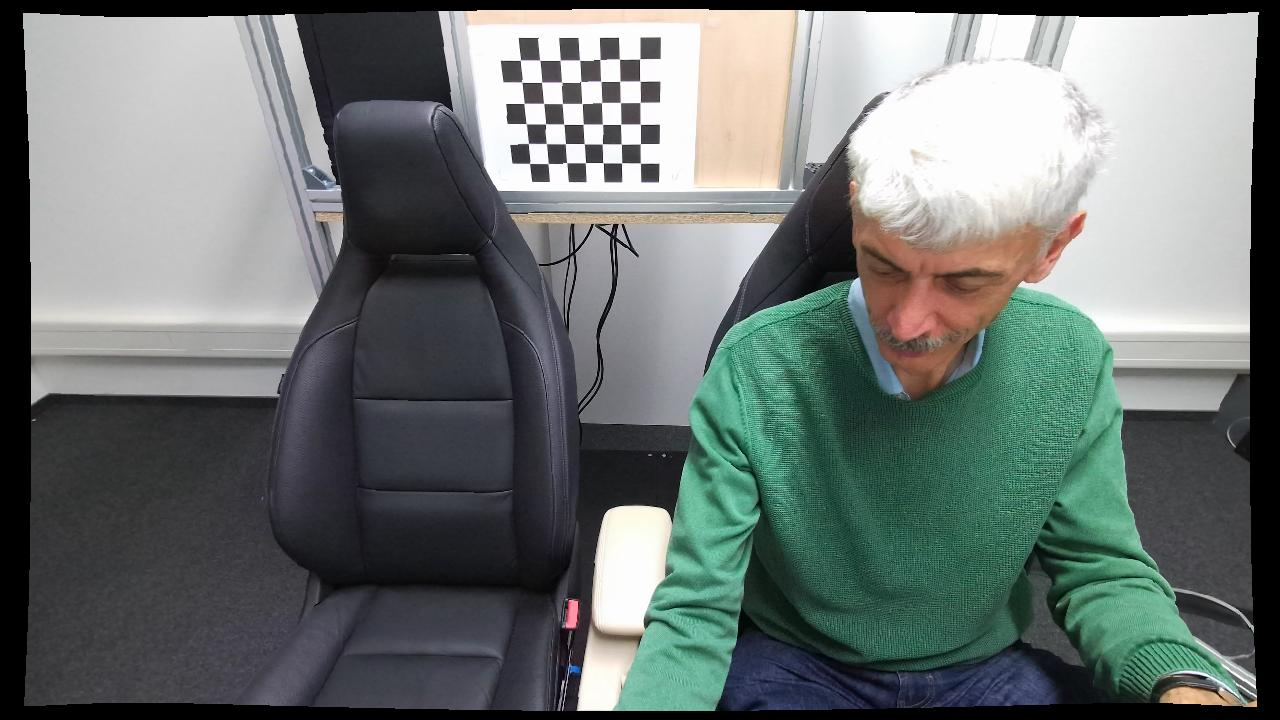Distracted: (615, 54, 1160, 711)
